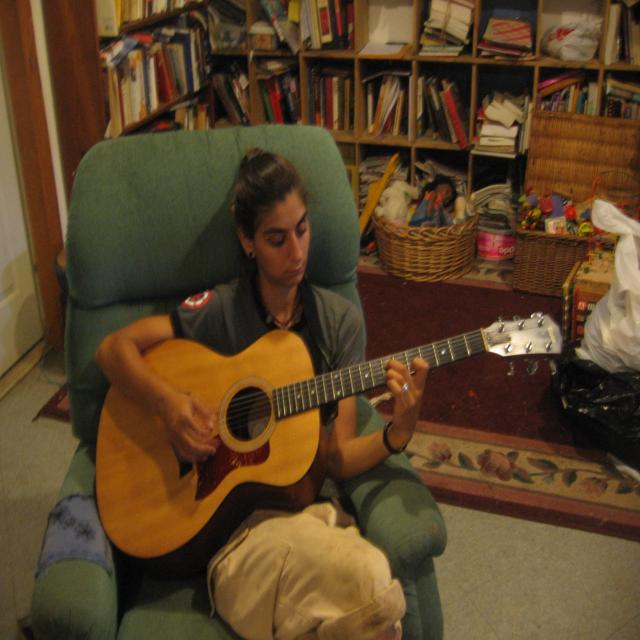guitar: (95, 312, 566, 570)
